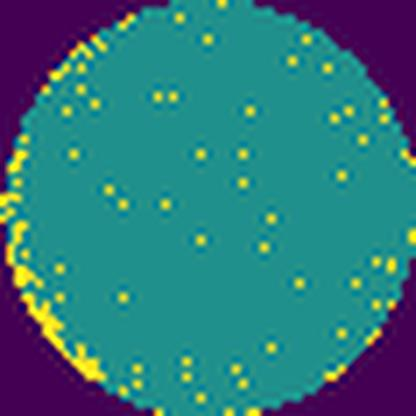Edge-Loc: (22, 295, 108, 384), (5, 220, 46, 292)
